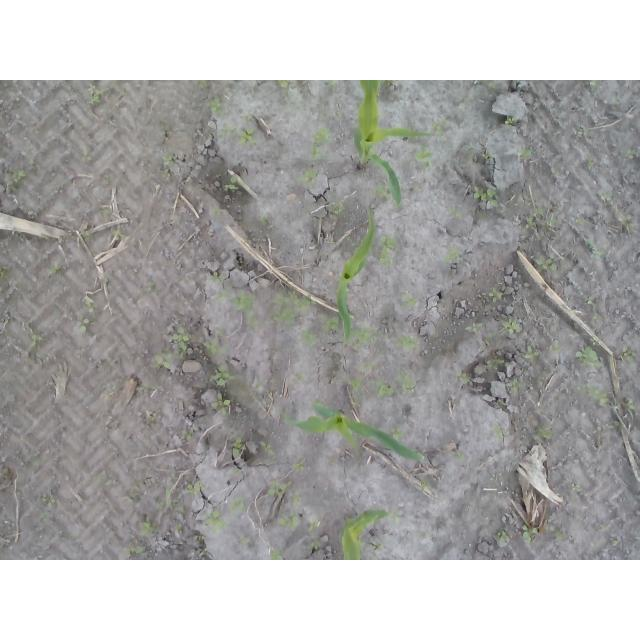Maize: (352, 80, 434, 208), (282, 400, 426, 469), (335, 208, 377, 341), (340, 509, 390, 560)
Weeds: (271, 286, 317, 328), (150, 323, 190, 369), (207, 327, 235, 387), (350, 363, 395, 400), (214, 288, 257, 312), (574, 335, 603, 370), (215, 123, 258, 145), (378, 234, 401, 269), (576, 382, 611, 405), (86, 82, 111, 112), (344, 326, 375, 350), (526, 208, 561, 227), (310, 128, 330, 161), (473, 187, 500, 211), (4, 167, 27, 194), (206, 510, 229, 535), (271, 511, 301, 530), (38, 494, 58, 522), (210, 390, 233, 414), (158, 499, 187, 517), (534, 255, 559, 274), (400, 370, 418, 395), (619, 345, 637, 369), (319, 311, 339, 332), (500, 317, 522, 336), (442, 245, 464, 264), (206, 95, 224, 118), (429, 114, 447, 137), (585, 239, 608, 257), (308, 519, 321, 550), (296, 168, 316, 188), (23, 351, 47, 367), (414, 149, 433, 168), (598, 189, 618, 207), (531, 426, 553, 442), (232, 433, 245, 460), (375, 183, 395, 200), (516, 146, 536, 163), (390, 426, 411, 442), (520, 524, 536, 545), (138, 520, 158, 536), (230, 496, 248, 513), (511, 377, 529, 394), (267, 480, 285, 497), (183, 480, 202, 496), (223, 176, 240, 193), (620, 398, 637, 415), (28, 328, 42, 348), (487, 287, 503, 304), (127, 543, 146, 557), (397, 335, 416, 349), (80, 296, 96, 312), (399, 293, 417, 307), (525, 344, 540, 360), (303, 328, 318, 344), (135, 384, 161, 393), (112, 225, 127, 240), (495, 529, 510, 544), (368, 537, 384, 551), (494, 424, 507, 441), (620, 215, 633, 232), (457, 369, 471, 384), (486, 358, 505, 369), (447, 207, 466, 218), (75, 319, 89, 333), (259, 441, 273, 455), (208, 270, 223, 283), (161, 152, 176, 165), (0, 265, 12, 281), (606, 420, 622, 432), (247, 312, 258, 328), (477, 80, 496, 89), (416, 479, 428, 493), (464, 322, 480, 332), (126, 493, 142, 503), (176, 431, 192, 441), (332, 204, 345, 216), (271, 549, 285, 560), (505, 115, 520, 125), (143, 280, 155, 292), (589, 80, 601, 92), (289, 464, 305, 473), (549, 340, 560, 353), (80, 231, 94, 241), (291, 494, 302, 506), (625, 149, 636, 160), (571, 483, 583, 493), (240, 536, 253, 545), (160, 131, 169, 144), (242, 113, 255, 122), (193, 535, 204, 545), (27, 159, 37, 170), (583, 160, 593, 171), (395, 513, 402, 528), (327, 455, 337, 465), (161, 169, 172, 178), (80, 152, 92, 160), (199, 80, 209, 89), (259, 217, 269, 226), (485, 151, 494, 161), (0, 469, 8, 480), (278, 80, 289, 88), (611, 96, 622, 104), (463, 144, 474, 152), (555, 528, 561, 542), (606, 356, 613, 368), (296, 373, 305, 382), (584, 296, 593, 305), (112, 383, 121, 392), (455, 453, 465, 461), (211, 209, 222, 216), (483, 335, 493, 342), (104, 176, 112, 184), (576, 216, 584, 224), (368, 556, 380, 561)
